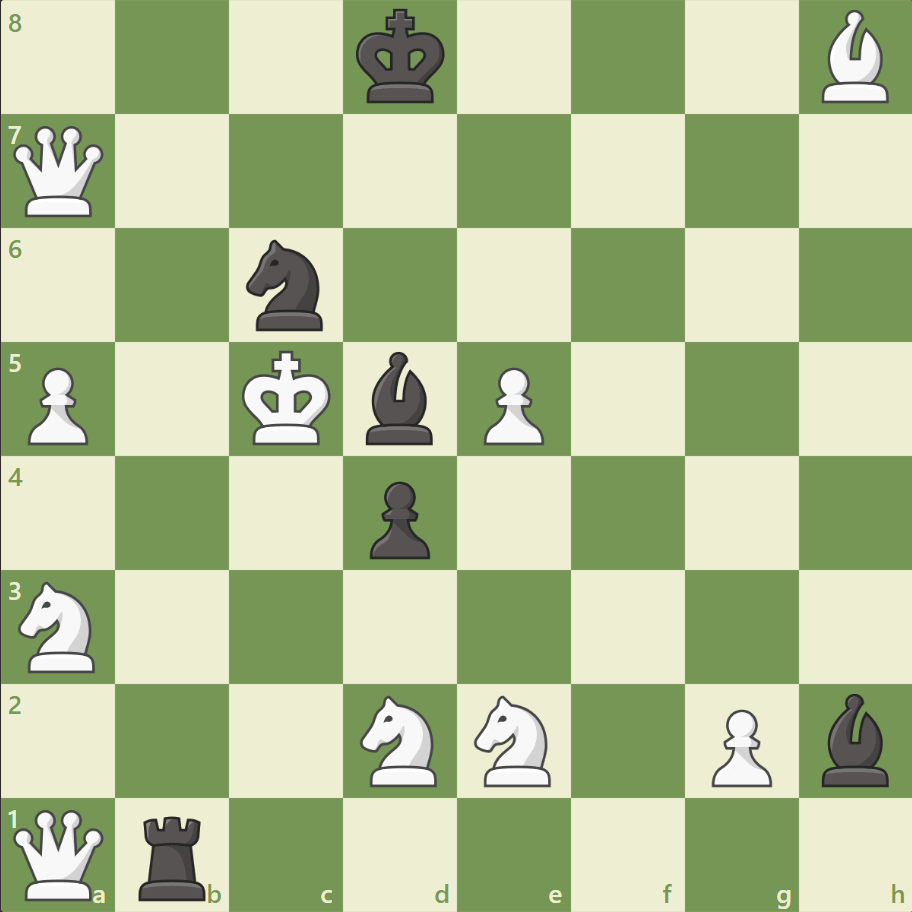B: (812, 6, 896, 109)
K: (238, 344, 338, 452)
N: (351, 688, 449, 791), (465, 688, 562, 791), (11, 575, 108, 677)
P: (20, 359, 95, 450), (474, 359, 549, 450), (701, 700, 776, 791)
Q: (10, 122, 109, 222), (10, 804, 109, 903)
b: (812, 687, 896, 790), (358, 347, 442, 449)
k: (351, 4, 451, 112)
n: (238, 234, 335, 337)
p: (361, 473, 435, 564)
r: (133, 806, 215, 904)
